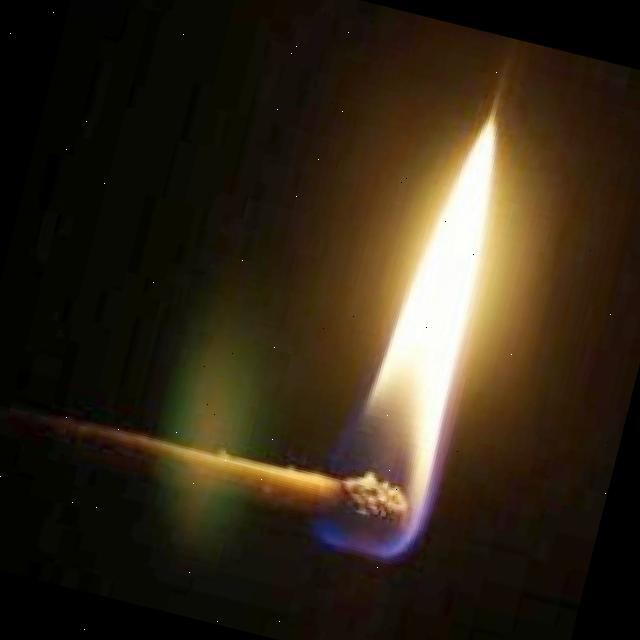fire: (328, 101, 522, 568)
